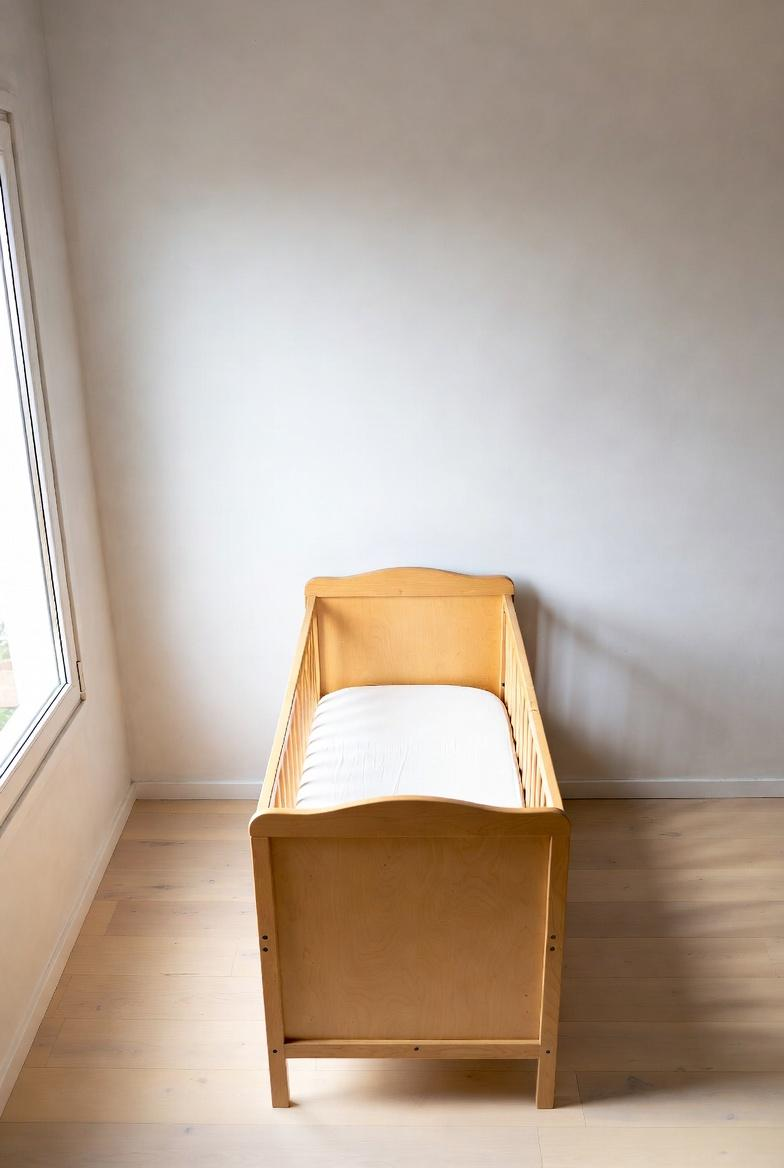crib: (238, 552, 593, 1117)
